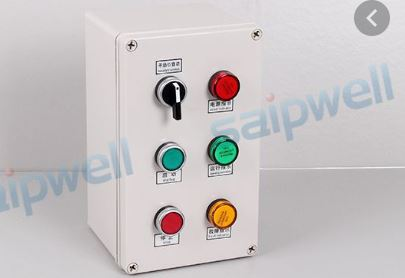Green_Led_Off: (155, 142, 189, 175), (207, 135, 241, 168)
Red_Led_Off: (153, 206, 189, 240), (209, 69, 241, 104)
Yellow_Led_Off: (205, 200, 239, 232)
